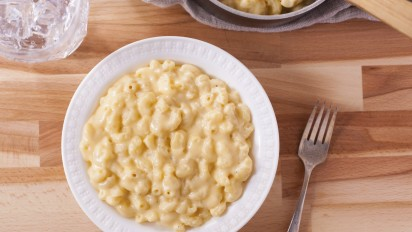cheese: (123, 104, 206, 173)
